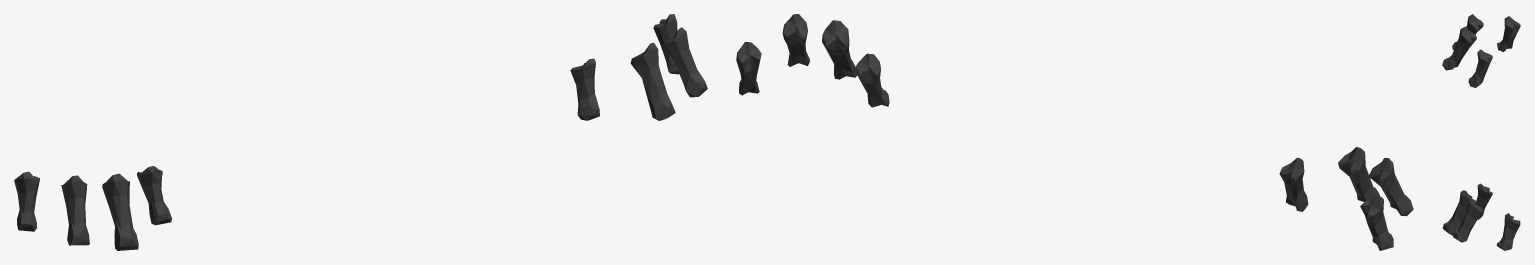
3 views of the same model, side by side, from view 1: azimuth 30°, elevation 25°; view 2: azimuth 150°, elevation 25°; view 3: azimuth 270°, elevation 25° (orthographic). The views are drawn at different scales.
Visible parts, largest first — view 1: HL_P2; view 2: HL_P2; view 3: HL_P2.
Boxes of the visible parts, <box> form: HL_P2: <box>14,14,707,250</box>; HL_P2: <box>736,14,1413,250</box>; HL_P2: <box>1442,14,1520,250</box>.
Bounding box in the file's own units: 0.00701 × 0.000717 × 0.00114.
Materials: 1 (1 with a texture image).
